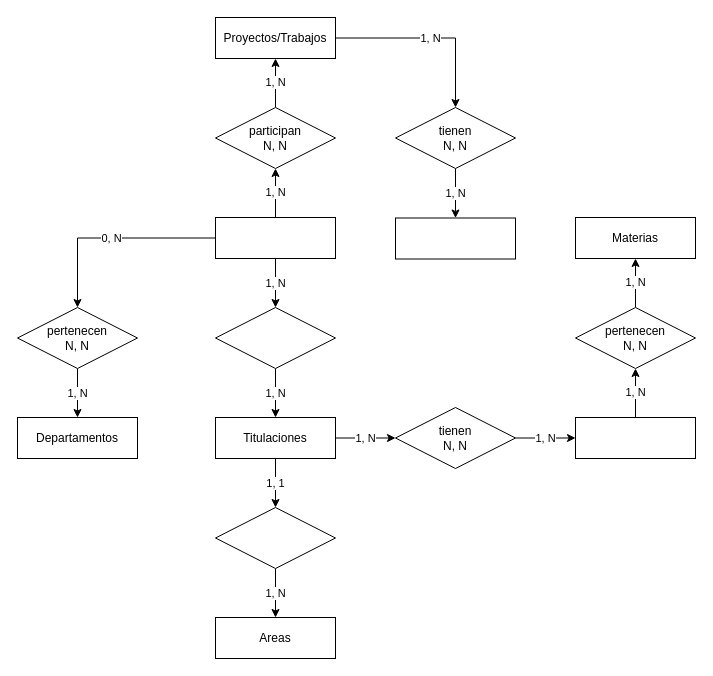
The diagram is 713 pixels wide and 676 high, and some of its shapes have lost their labels. The centre of each missing label's shape, as x and y in pixels:
Asignaturas: the point at 635,437
imparten N, N: the point at 275,337
pertenecen 1, N: the point at 275,537
Premios: the point at 455,238
Usuarios: the point at 275,237
